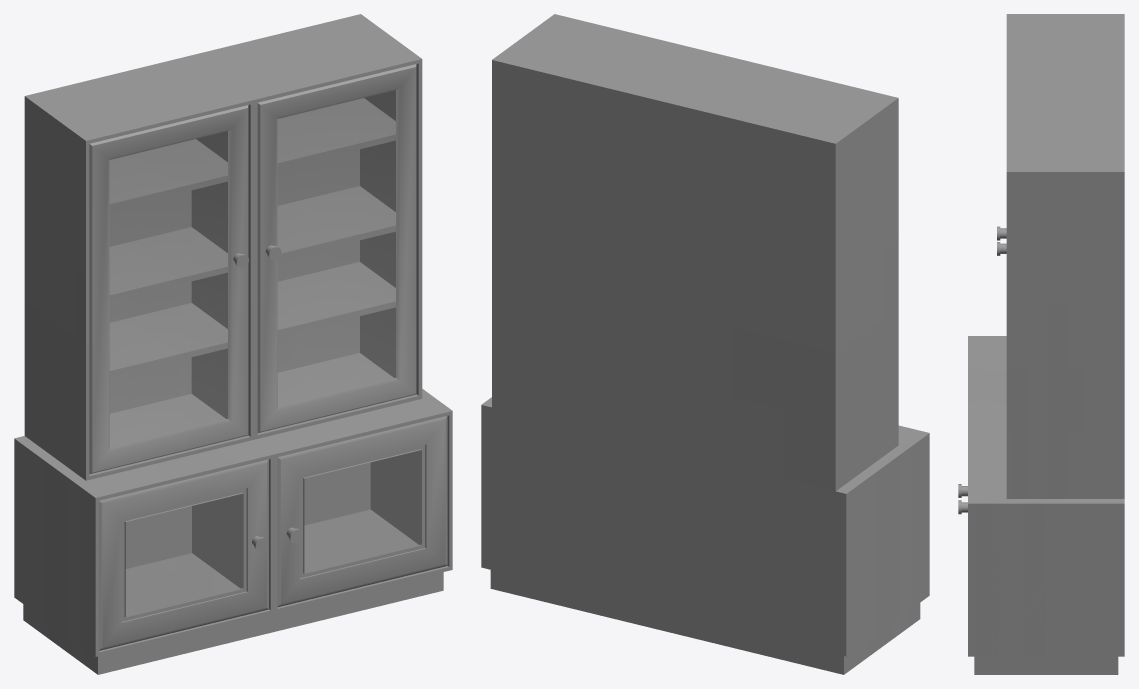
The model's file is Drawer.obj.
3 renders of one model, left to right at view 1: azimuth 30°, elevation 25°; view 2: azimuth 150°, elevation 25°; view 3: azimuth 270°, elevation 25°, orthographic. The views are drawn at different scales.
Visible parts, largest first — view 1: Default; view 2: Default; view 3: Default.
Part boxes in pixels (left/top/right/bottom): Default: left=14, top=14, right=452, bottom=674; Default: left=481, top=14, right=929, bottom=674; Default: left=958, top=14, right=1124, bottom=674.
Bounding box in the file's own units: 12.32 × 17.16 × 5.16.
